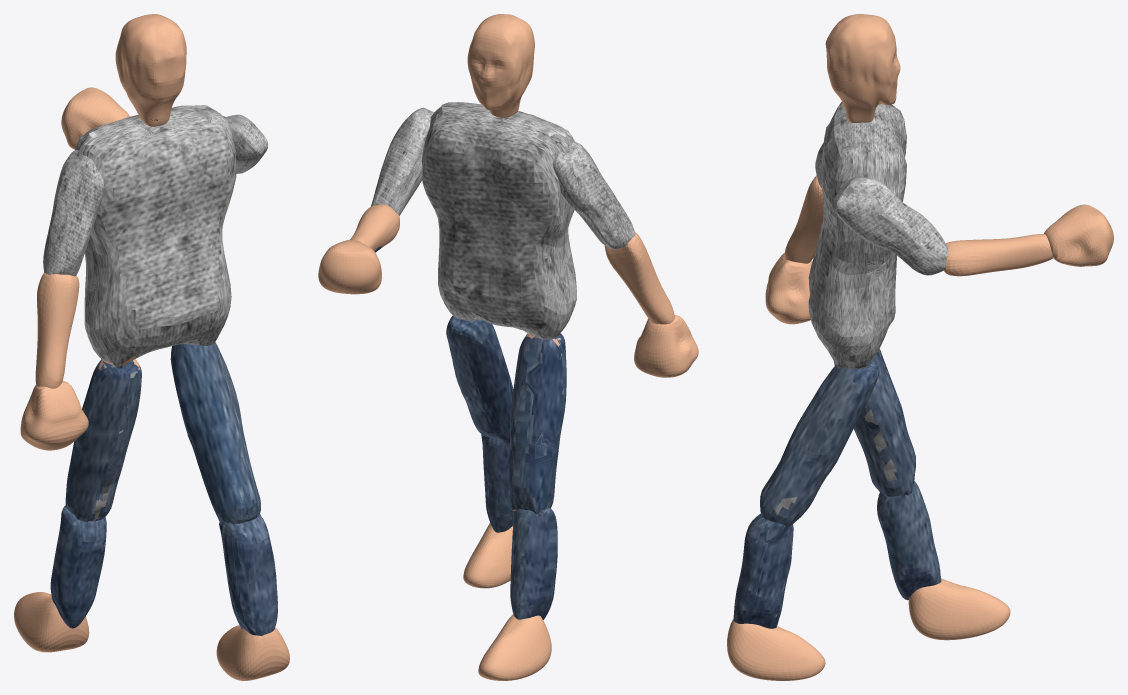
File: mainCharacter.obj
3 renders of one model, left to right at view 1: azimuth 30°, elevation 25°; view 2: azimuth 150°, elevation 25°; view 3: azimuth 270°, elevation 25°, orthographic. The views are drawn at different scales.
Parts seen in each view (by area): view 1: Cube.007, Cube.001_Cube.017, Cube.001, Cube.016, Cube.004, Cube.006_Cube.021, Cube.002_Cube.018, Cube.008_Cube.022, Cube.011_Cube.024, Cube.003_Cube.019, Cube.005_Cube.020, Cube.009_Cube.023 (+1 smaller); view 2: Cube.007, Cube.001, Cube.001_Cube.017, Cube.016, Cube.002_Cube.018, Cube.006_Cube.021, Cube.010, Cube.005_Cube.020, Cube.011_Cube.024, Cube.008_Cube.022, Cube.009_Cube.023, Cube.004 (+2 smaller); view 3: Cube.007, Cube.001_Cube.017, Cube.016, Cube.010, Cube.001, Cube.004, Cube.002_Cube.018, Cube.005_Cube.020, Cube.003_Cube.019, Cube.015, Cube.009_Cube.023, Cube.011_Cube.024 (+1 smaller).
Boxes of the visible parts, x1,y1,x2,y2 form: Cube.007: (75, 105, 236, 367); Cube.001_Cube.017: (170, 342, 260, 523); Cube.001: (65, 359, 141, 521); Cube.016: (115, 14, 186, 126); Cube.004: (219, 514, 277, 635); Cube.006_Cube.021: (43, 150, 104, 276); Cube.002_Cube.018: (50, 505, 106, 628); Cube.008_Cube.022: (35, 273, 79, 388); Cube.011_Cube.024: (20, 380, 88, 450); Cube.003_Cube.019: (216, 625, 289, 680); Cube.005_Cube.020: (14, 592, 89, 652); Cube.009_Cube.023: (61, 87, 129, 149); Cube.007: (421, 102, 576, 340); Cube.001: (509, 333, 566, 514); Cube.001_Cube.017: (446, 315, 513, 443); Cube.016: (467, 14, 534, 117); Cube.002_Cube.018: (510, 508, 557, 619); Cube.006_Cube.021: (552, 141, 635, 249); Cube.010: (371, 107, 433, 215); Cube.005_Cube.020: (478, 614, 551, 680); Cube.011_Cube.024: (634, 315, 698, 377); Cube.008_Cube.022: (604, 232, 674, 324); Cube.009_Cube.023: (318, 240, 381, 294); Cube.004: (481, 434, 512, 532); Cube.007: (808, 102, 906, 368); Cube.001_Cube.017: (760, 361, 879, 527); Cube.016: (825, 14, 900, 122); Cube.010: (832, 177, 948, 275); Cube.001: (834, 348, 915, 496); Cube.004: (733, 513, 793, 628); Cube.002_Cube.018: (877, 481, 941, 600); Cube.005_Cube.020: (908, 578, 1010, 640); Cube.003_Cube.019: (727, 619, 825, 680); Cube.015: (944, 234, 1052, 276); Cube.009_Cube.023: (1044, 204, 1113, 266); Cube.011_Cube.024: (765, 252, 812, 324).
Bounding box in the file's own units: 0.945 × 2.14 × 1.17.
3 materials, 3 textured.
